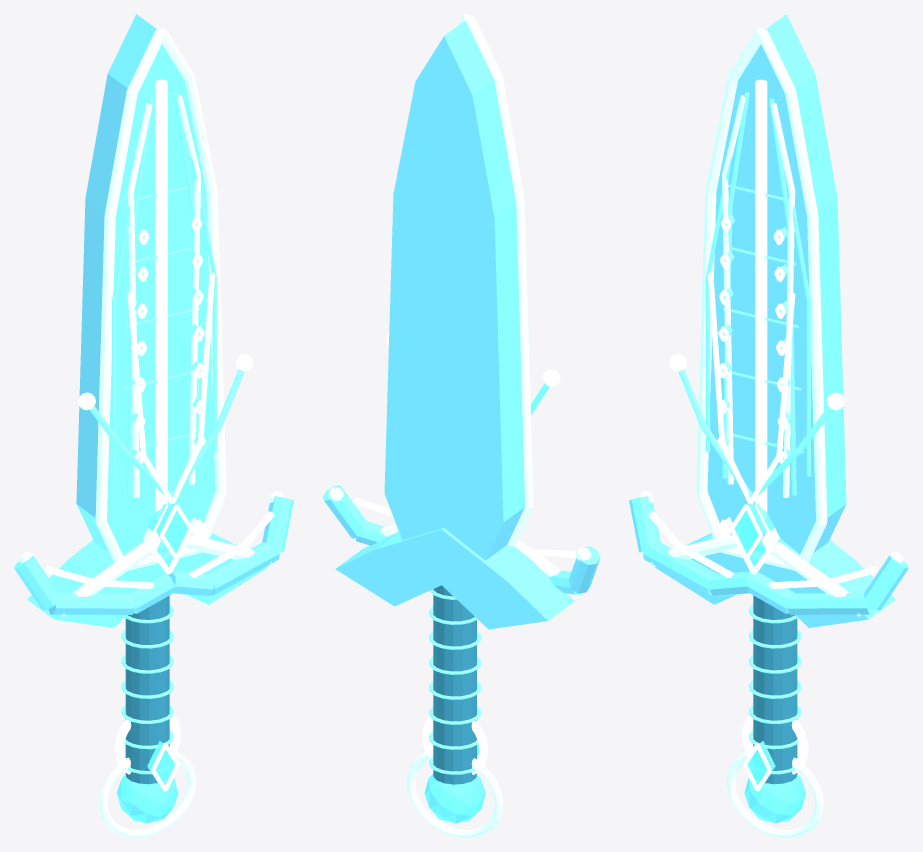
The model's file is bildmaster_longsword_hologram_v2.glb.
The picture shows the model from 3 angles, left to right: view 1: azimuth 30°, elevation 25°; view 2: azimuth 150°, elevation 25°; view 3: azimuth 330°, elevation 25°; orthographic projection.
Visible parts, largest first — view 1: longsword_metal, longsword_light, longsword_white, longsword_aqua, longsword_core, longsword_glass; view 2: longsword_metal, longsword_light, longsword_core, longsword_glass, longsword_aqua, longsword_white; view 3: longsword_metal, longsword_light, longsword_white, longsword_aqua, longsword_core, longsword_glass.
Boxes of the visible parts, x1=… form: longsword_metal: x1=14, y1=14, x2=293, y2=627; longsword_light: x1=19, y1=28, x2=284, y2=837; longsword_white: x1=45, y1=79, x2=273, y2=791; longsword_aqua: x1=89, y1=92, x2=244, y2=774; longsword_core: x1=125, y1=595, x2=169, y2=784; longsword_glass: x1=116, y1=503, x2=188, y2=823; longsword_metal: x1=322, y1=20, x2=600, y2=629; longsword_light: x1=328, y1=14, x2=591, y2=837; longsword_core: x1=433, y1=585, x2=476, y2=784; longsword_glass: x1=424, y1=739, x2=485, y2=823; longsword_aqua: x1=429, y1=383, x2=549, y2=774; longsword_white: x1=353, y1=333, x2=576, y2=774; longsword_metal: x1=629, y1=14, x2=908, y2=627; longsword_light: x1=638, y1=28, x2=903, y2=837; longsword_white: x1=649, y1=79, x2=877, y2=791; longsword_aqua: x1=678, y1=92, x2=833, y2=774; longsword_core: x1=753, y1=595, x2=797, y2=784; longsword_glass: x1=734, y1=503, x2=806, y2=823.
Size of the model in its own units: 0.4417 by 1.25 by 0.1278.
